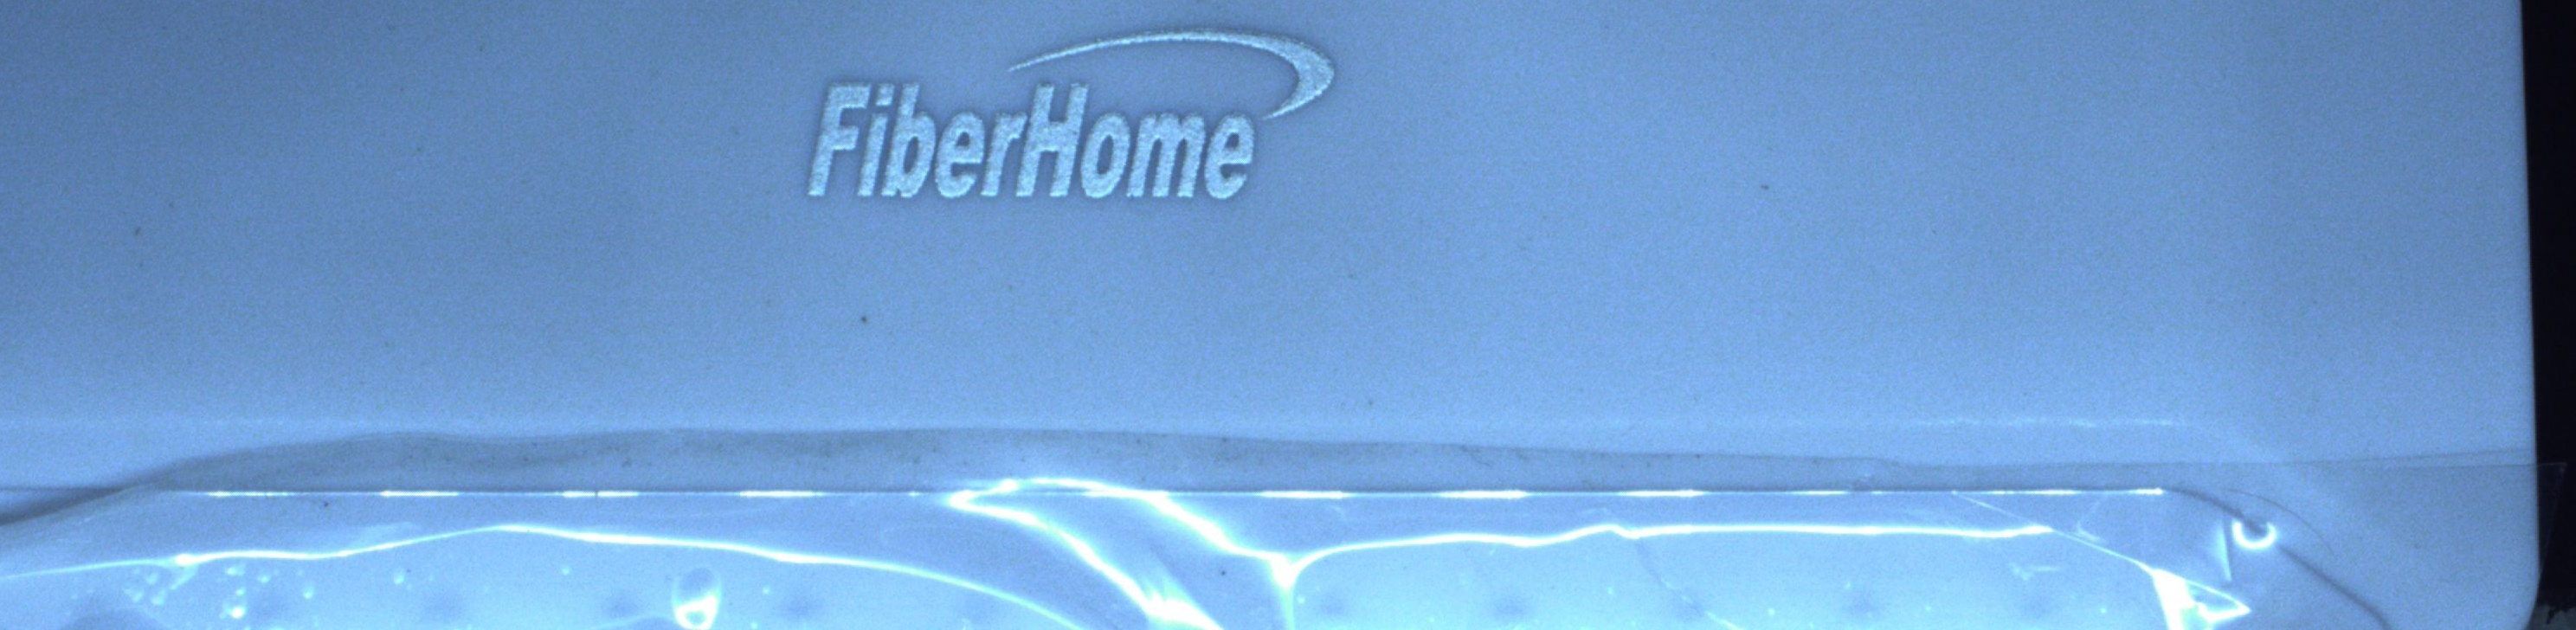AI_FiberHome: (769, 15, 1388, 230)
